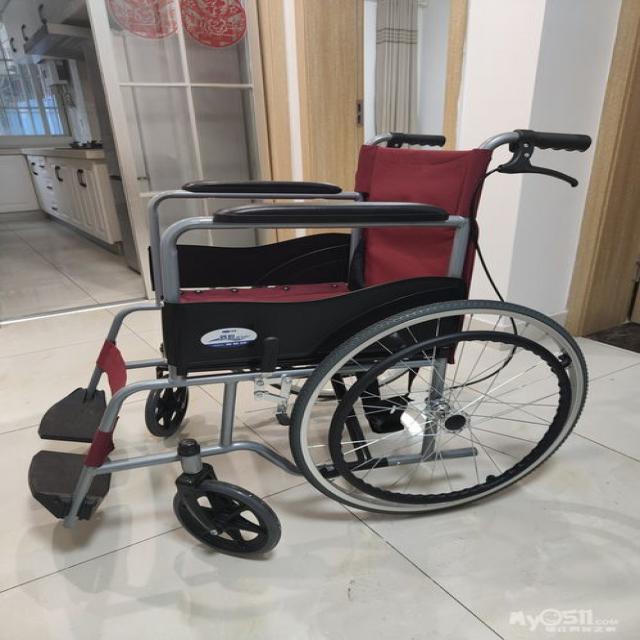wheelchair: (0, 120, 618, 559)
